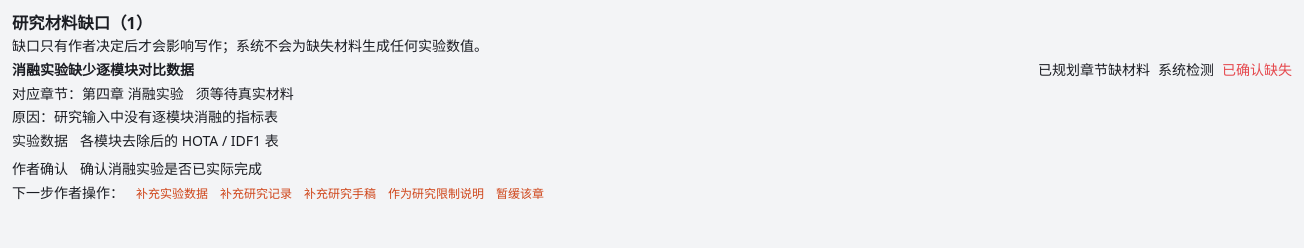
Test: MissingMaterialPanel（研究材料缺口） › 点击「作为研究限制说明」提交 write_as_limitation 并刷新账本
Click the button "作为研究限制说明" at (436, 194), box left=388, top=181, right=484, bottom=207
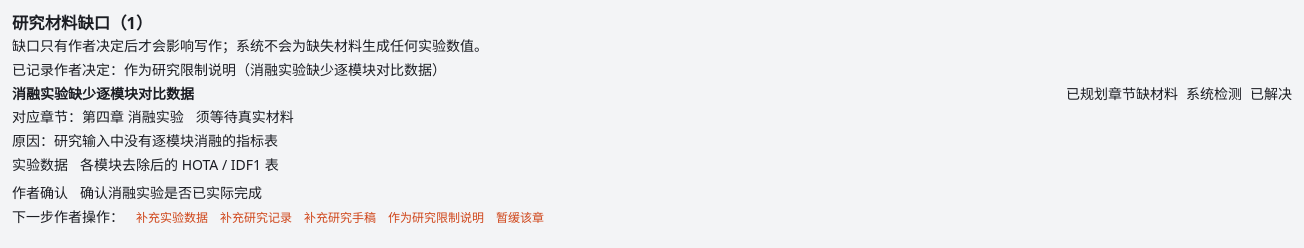
Expected: the text "已解决" is shown, left=1250, top=82, right=1292, bottom=106
Expected: the message shows "作为研究限制说明", left=12, top=60, right=446, bottom=79
Expected: the button "作为研究限制说明" is disabled, left=388, top=205, right=484, bottom=231
